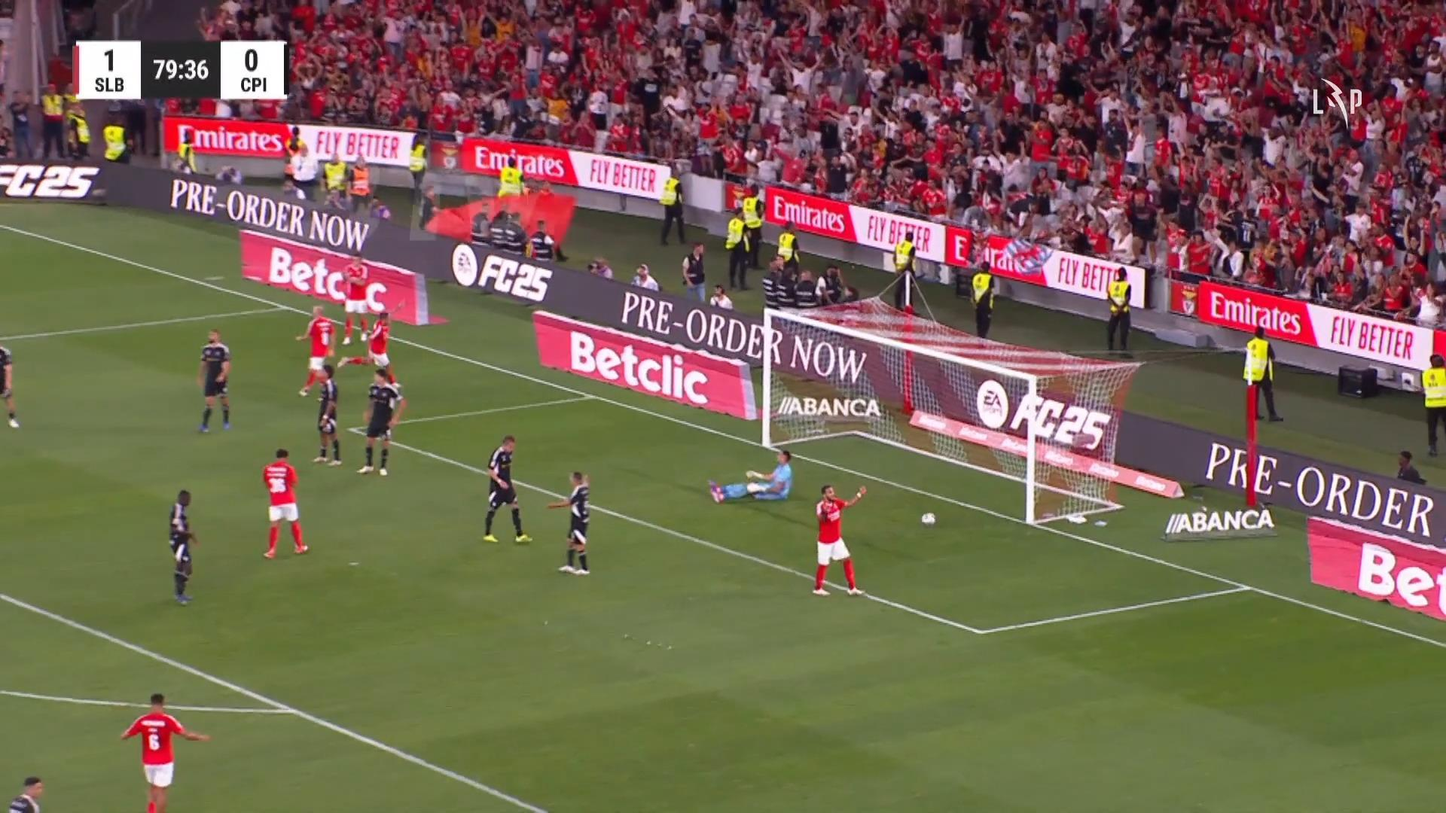ball: (920, 512, 935, 525)
goalkeeper: (707, 448, 793, 504)
player: (119, 692, 210, 811), (811, 483, 868, 595), (481, 434, 532, 543), (261, 447, 308, 559), (357, 369, 406, 475), (546, 469, 590, 574), (336, 309, 396, 382), (294, 304, 335, 397), (196, 329, 232, 433), (168, 489, 198, 604), (311, 363, 342, 465), (339, 252, 370, 345), (1420, 352, 1444, 456), (724, 206, 752, 291), (969, 260, 996, 338), (0, 345, 20, 428), (8, 775, 44, 811)
referee: (1243, 325, 1283, 421)
